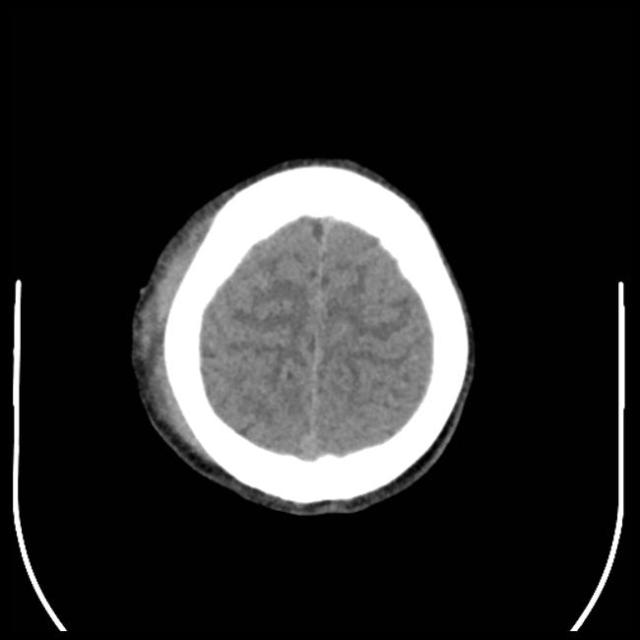lesion: (125, 151, 481, 520)
